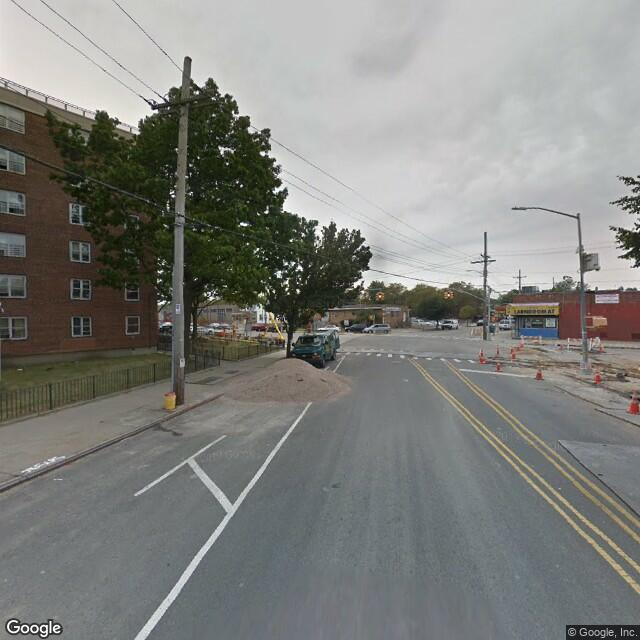litter: (163, 392, 179, 415), (10, 362, 31, 372)
